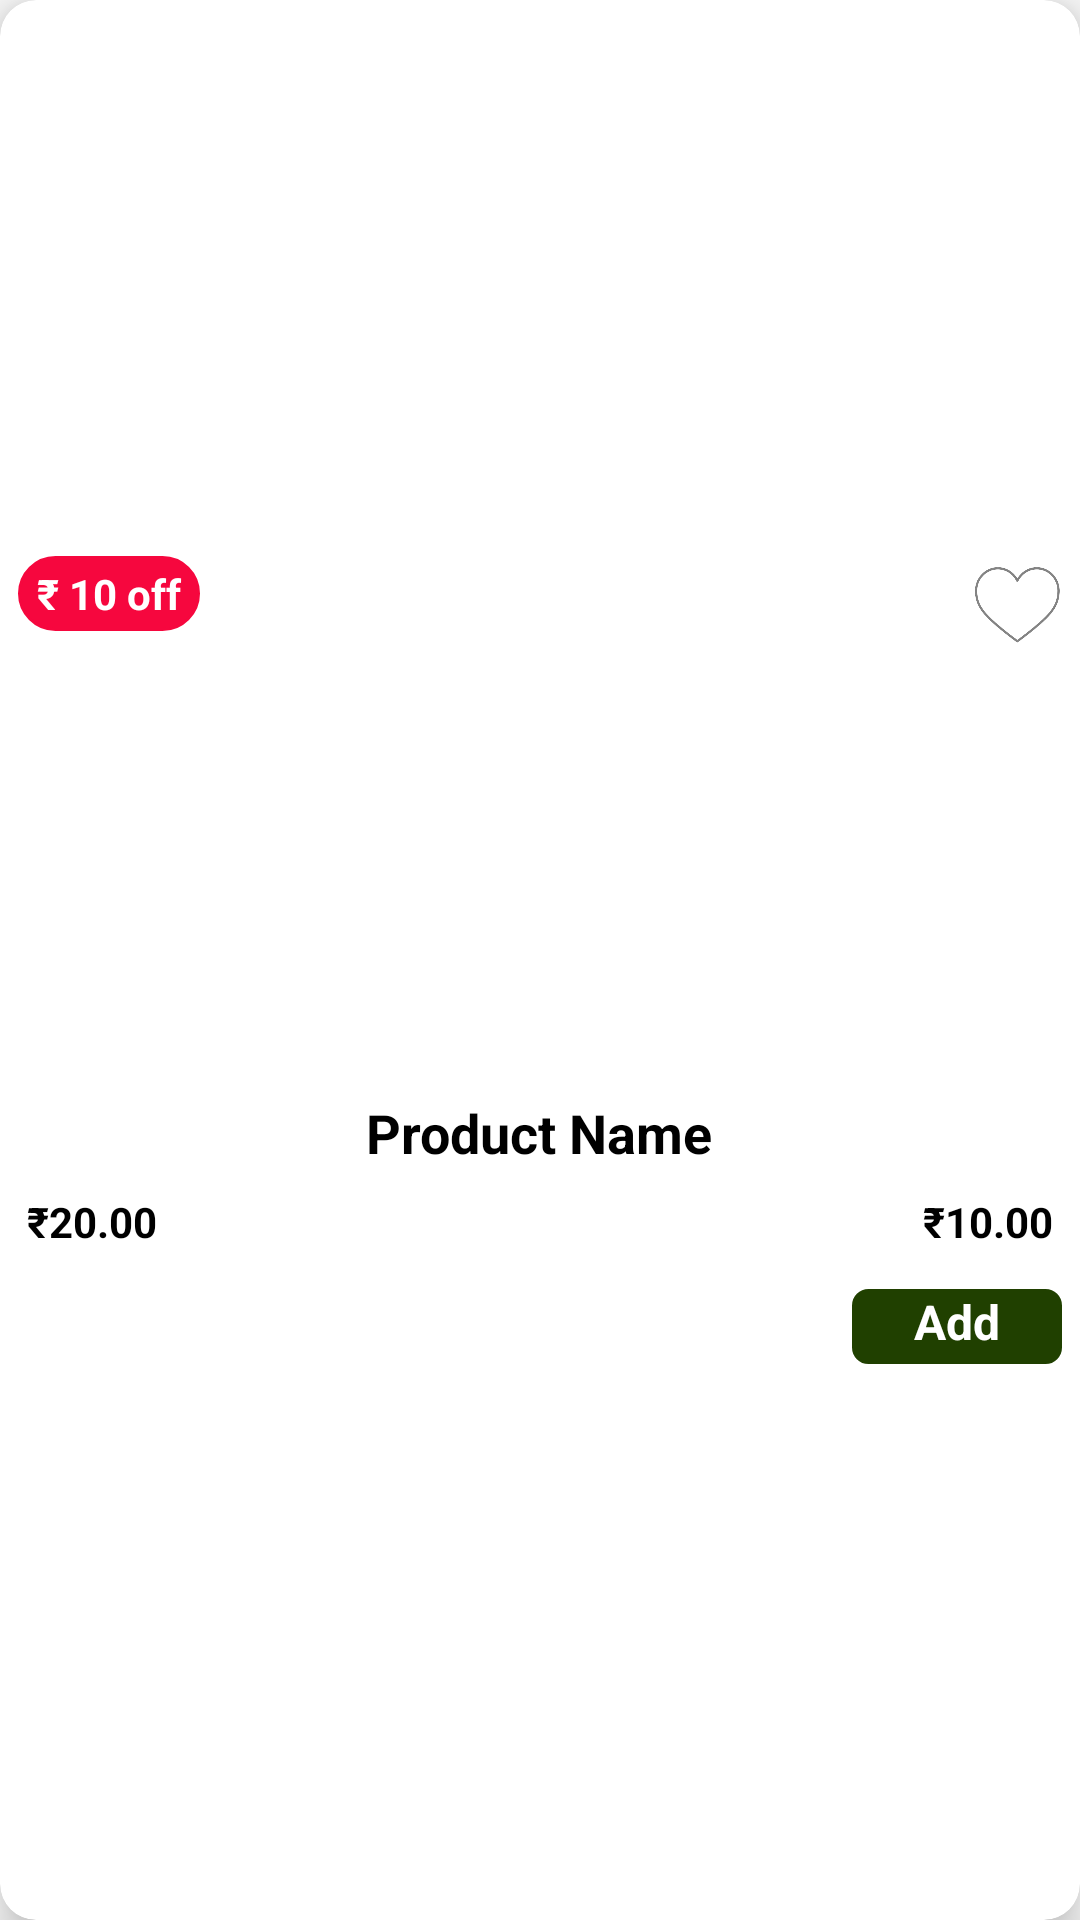

Screen size 1080 × 1920. Icon name, then its box in pixels as BBox(x1, y1, x2, y2):
favourite: BBox(975, 567, 1060, 643)
